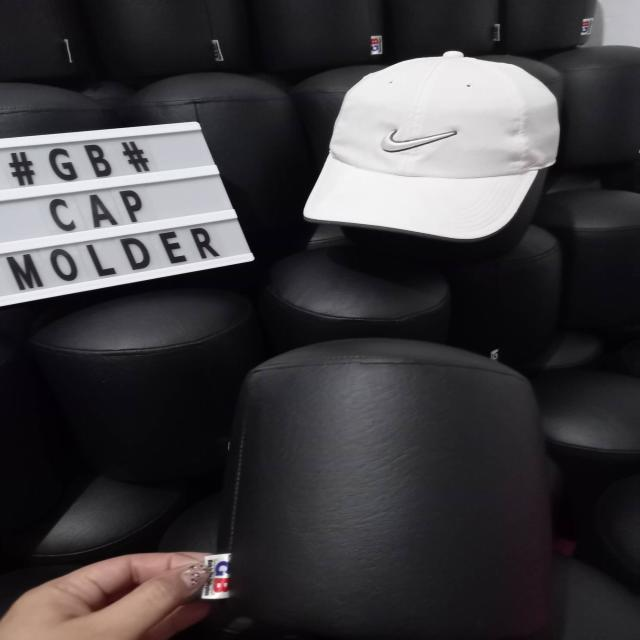Cap: (289, 50, 584, 256)
